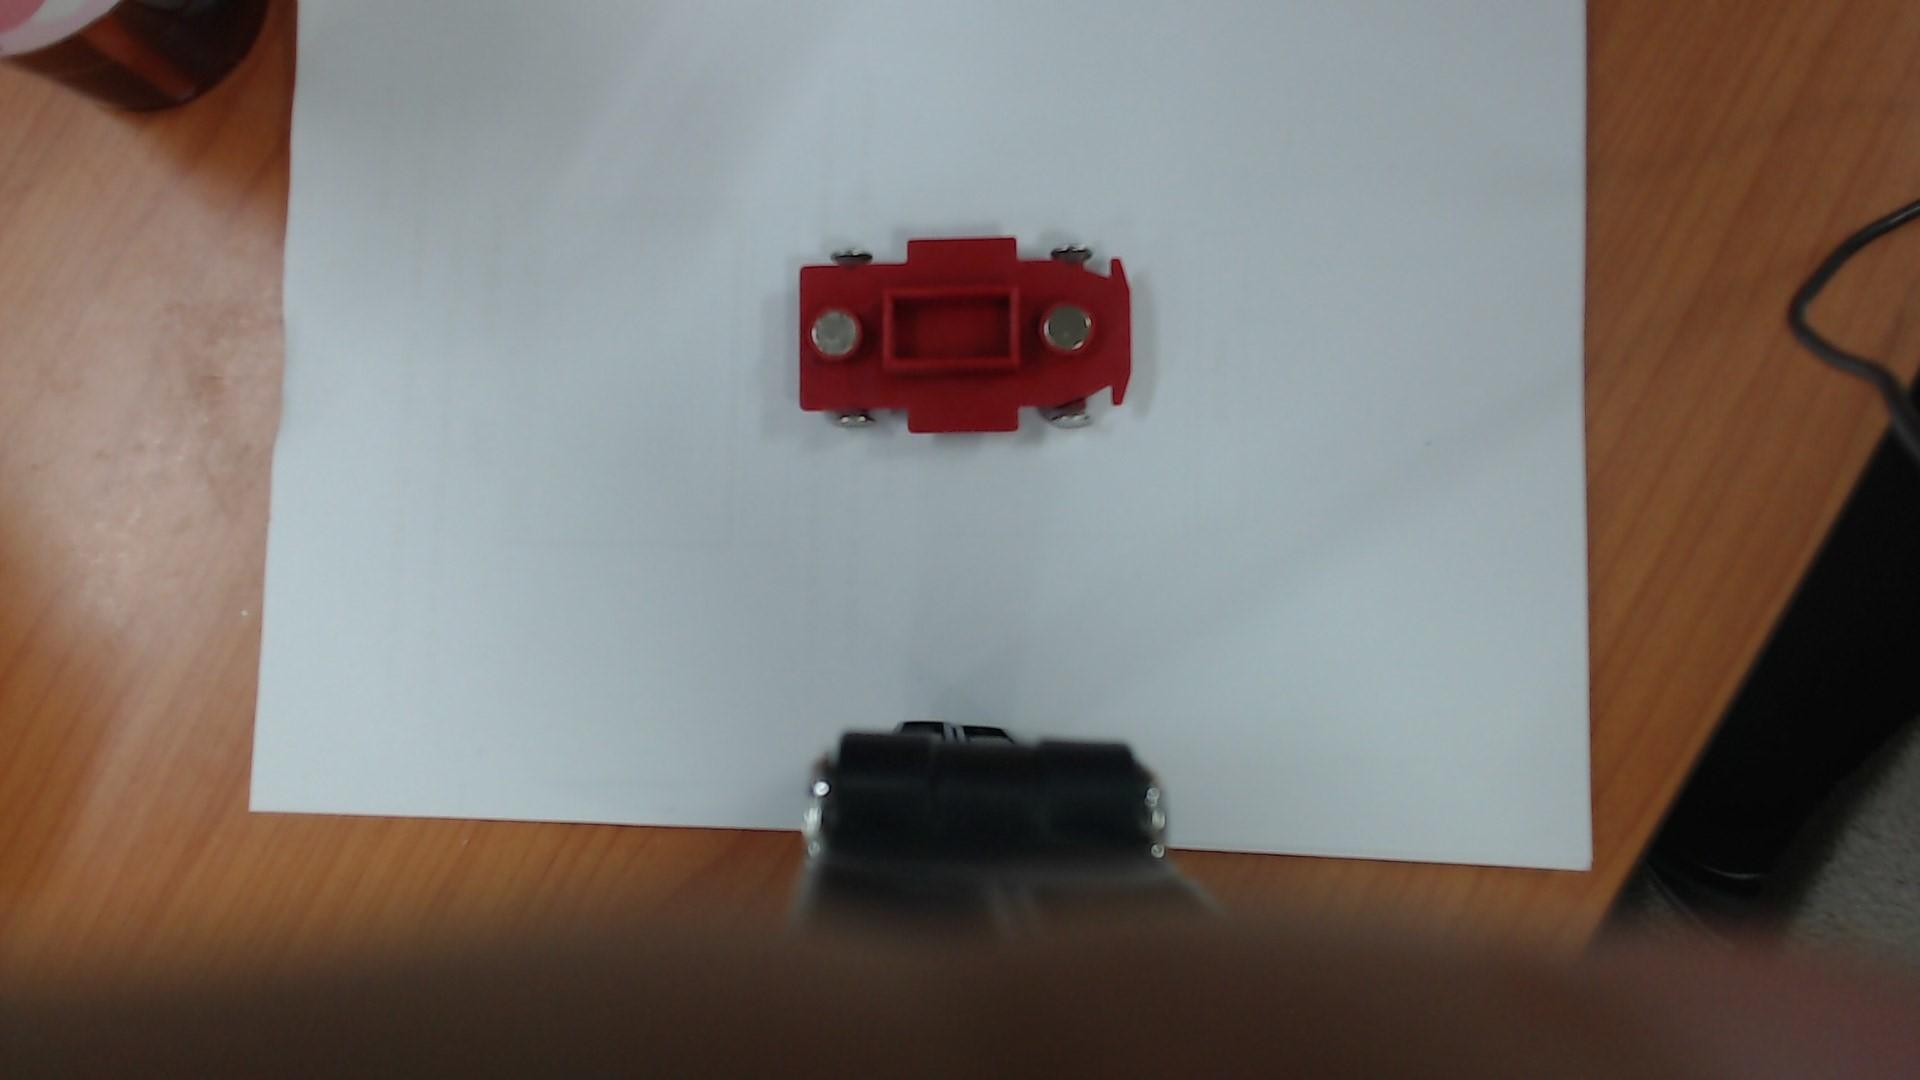lower_ok: (876, 280, 1027, 384)
